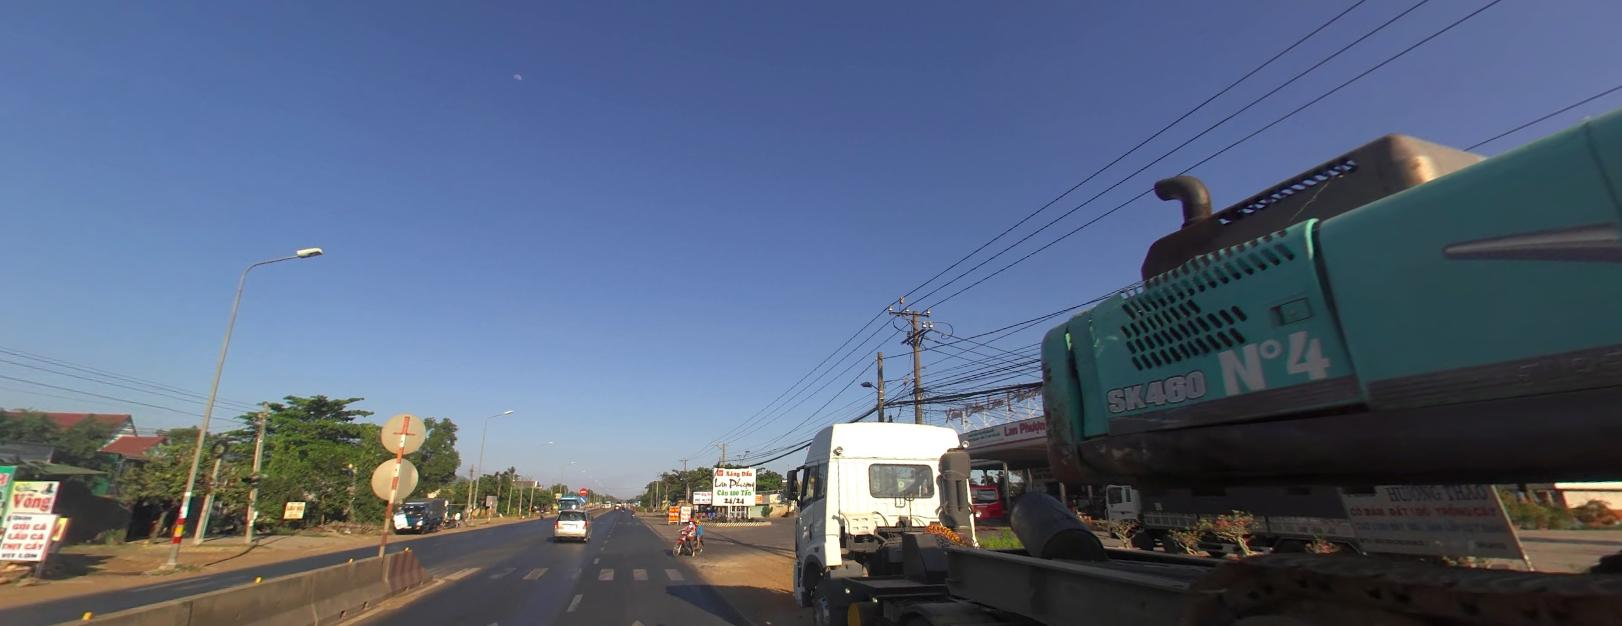Cam nguoc chieu: (579, 486, 587, 494), (580, 486, 587, 493)
Hieu lenh: (578, 494, 587, 502), (578, 495, 586, 503)
